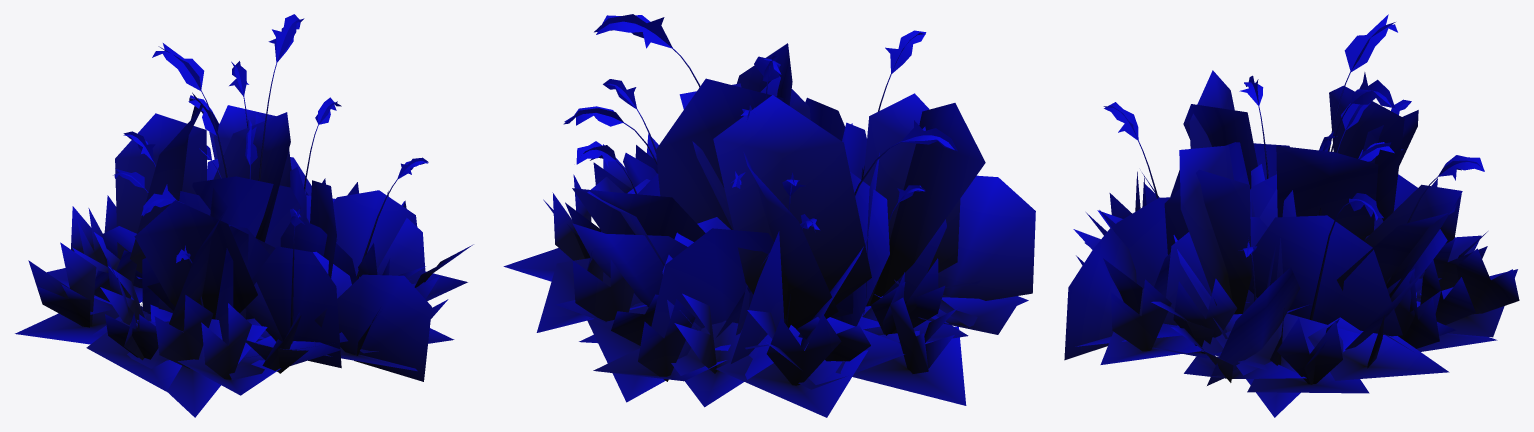
Rendered from SM_WildGrass_03.fbx.
The picture shows the model from 3 angles, left to right: view 1: azimuth 30°, elevation 25°; view 2: azimuth 150°, elevation 25°; view 3: azimuth 270°, elevation 25°; orthographic projection. The views are drawn at different scales.
Visible parts, largest first — view 1: SM_WildGrass_03_LOD0; view 2: SM_WildGrass_03_LOD0; view 3: SM_WildGrass_03_LOD0.
Boxes of the visible parts, left/top/right/bottom form: SM_WildGrass_03_LOD0: left=15, top=14, right=473, bottom=417; SM_WildGrass_03_LOD0: left=503, top=14, right=1035, bottom=417; SM_WildGrass_03_LOD0: left=1064, top=14, right=1519, bottom=417.
Bounding box in the file's own units: 144 × 136 × 96.22.
